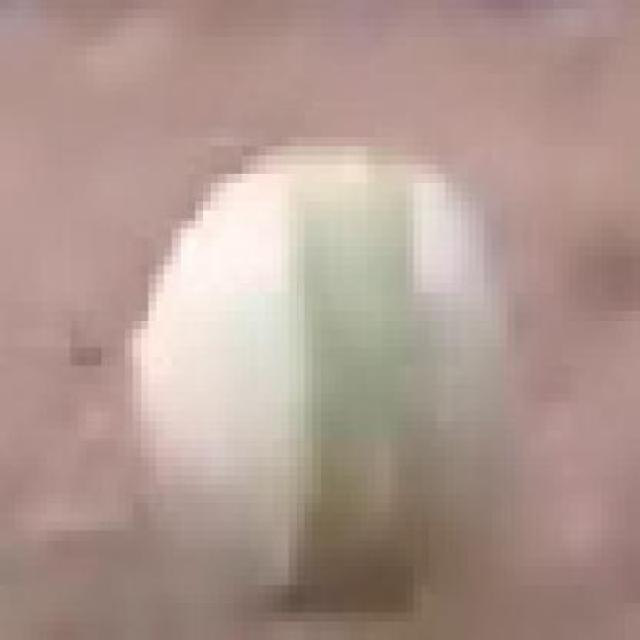Cricket ball: (120, 141, 542, 629)
